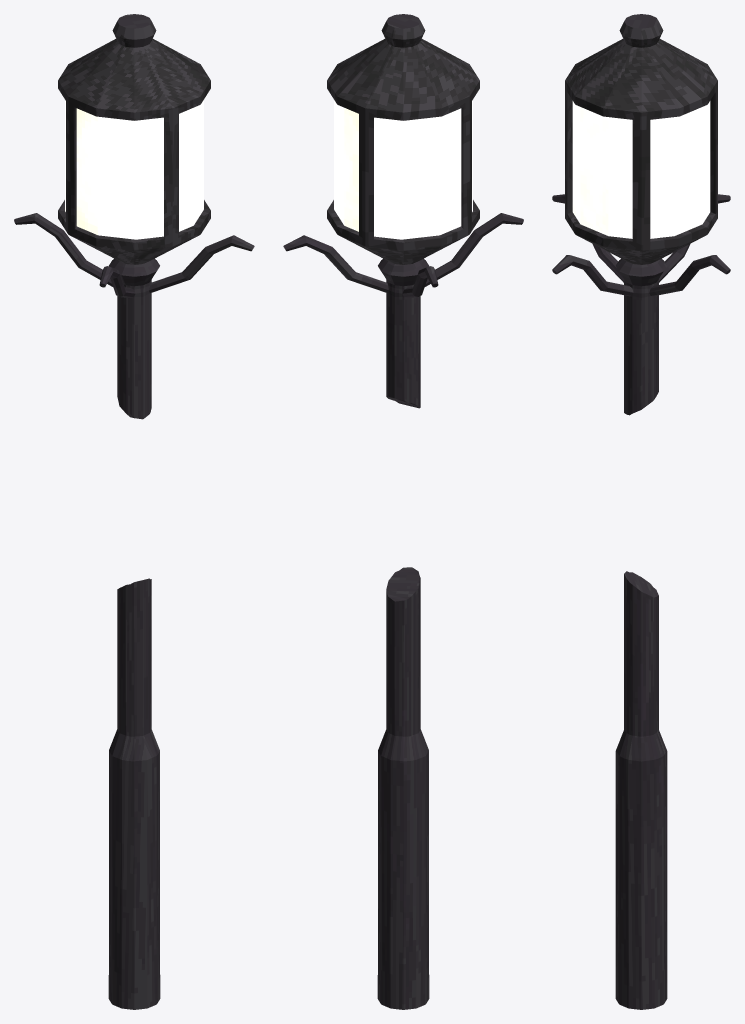
Rendered from SM_FarolaRota.fbx.
The picture shows the model from 3 angles, left to right: view 1: azimuth 30°, elevation 25°; view 2: azimuth 150°, elevation 25°; view 3: azimuth 270°, elevation 25°; orthographic projection.
Visible parts, largest first — view 1: La Farola; view 2: La Farola; view 3: La Farola.
Part boxes in pixels (x1=…): La Farola: x1=14, y1=14, x2=254, y2=1009; La Farola: x1=283, y1=14, x2=523, y2=1009; La Farola: x1=552, y1=14, x2=730, y2=1009.
Size of the model in its own units: 96.19 by 581 by 96.19.
1 material, 1 textured.
